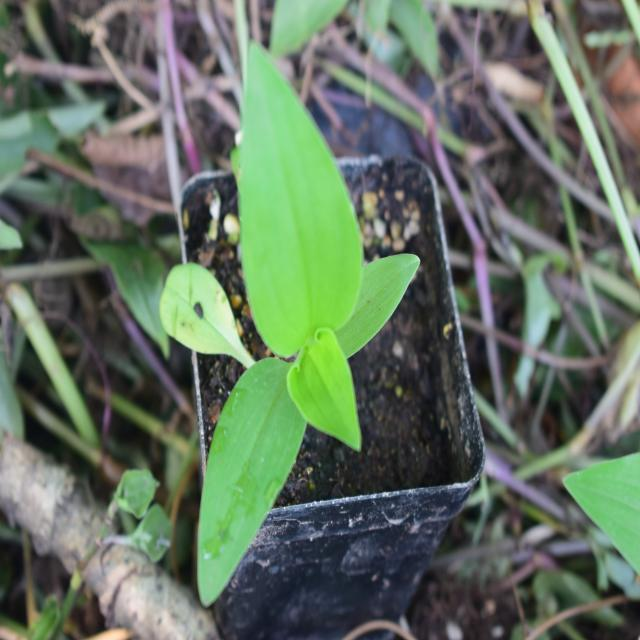Common Dayflower: (186, 45, 364, 599)
